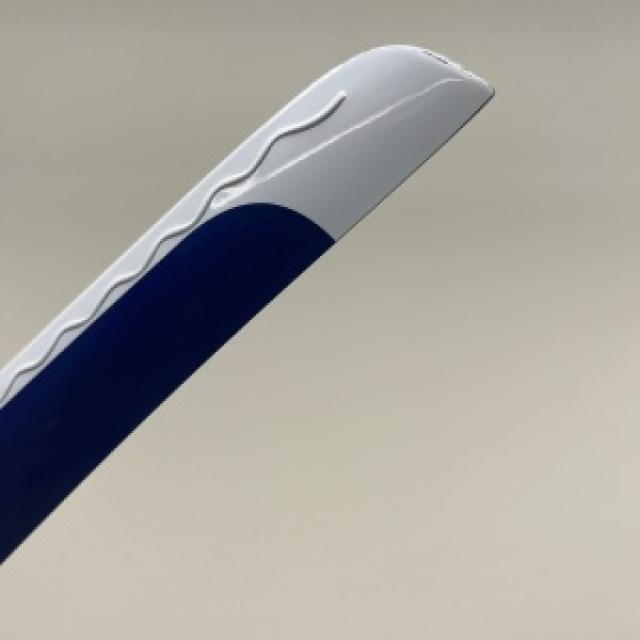healthy: (0, 45, 491, 561)
